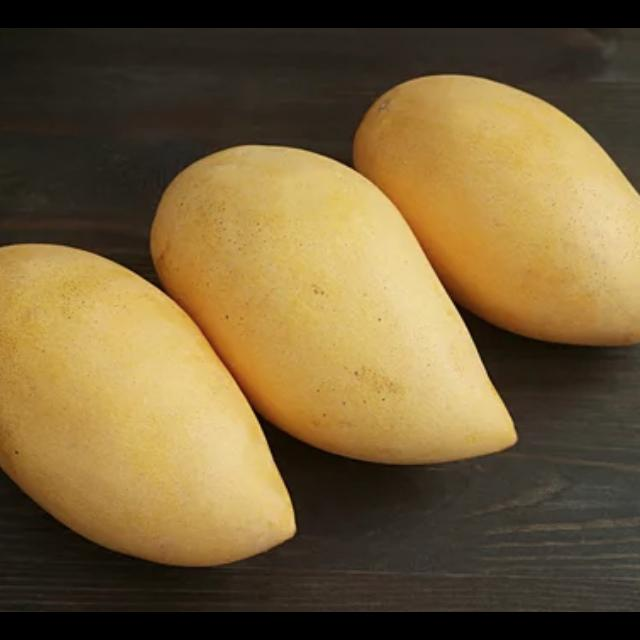mango: (153, 144, 520, 469), (0, 242, 296, 569), (351, 73, 640, 347)
